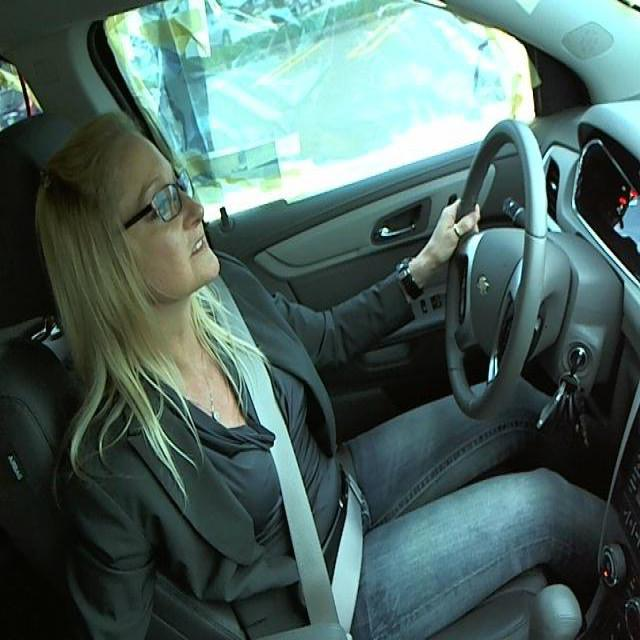seatbelt: (212, 304, 371, 619)
